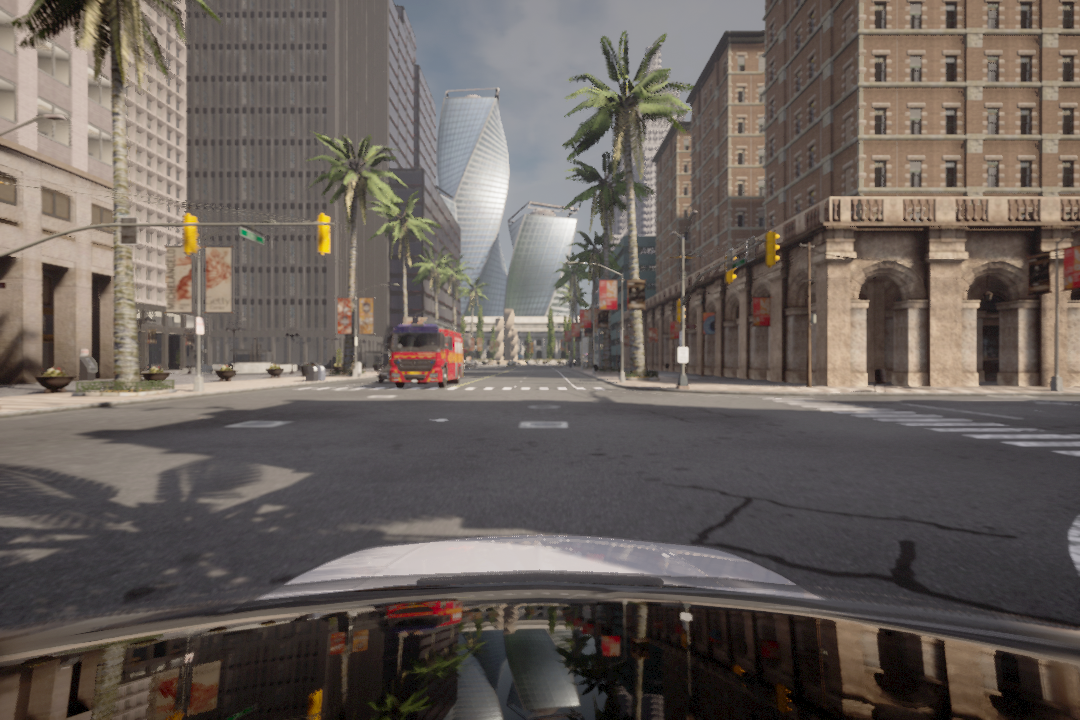walkside: (286, 381, 611, 394)
